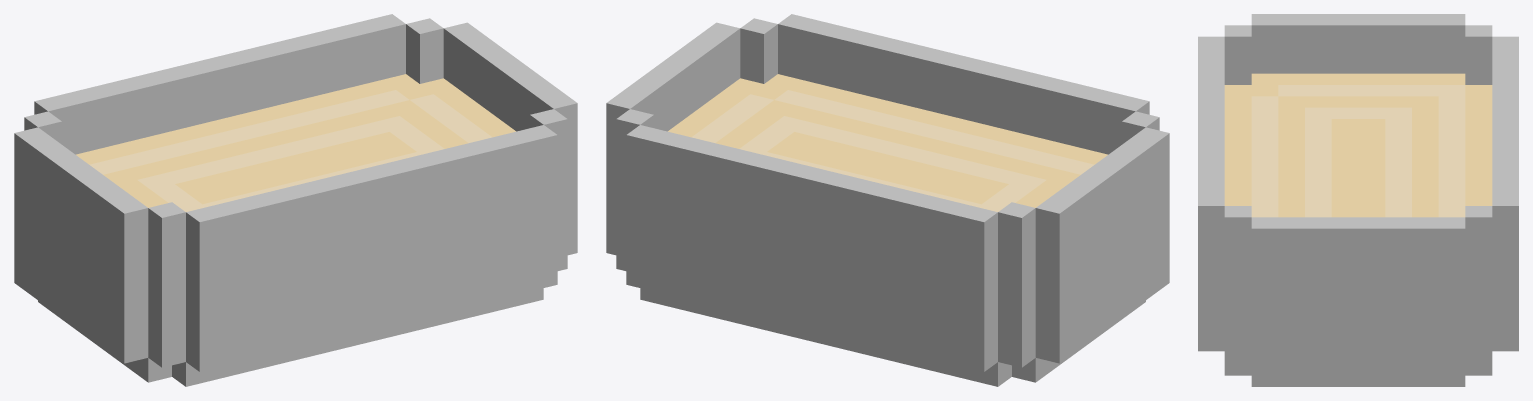
File: tenpurako youki.obj
The picture shows the model from 3 angles, left to right: view 1: azimuth 30°, elevation 25°; view 2: azimuth 150°, elevation 25°; view 3: azimuth 270°, elevation 25°; orthographic projection. The views are drawn at different scales.
Size of the model in its own units: 1.9 by 0.7 by 1.2.
1 material, 1 textured.
